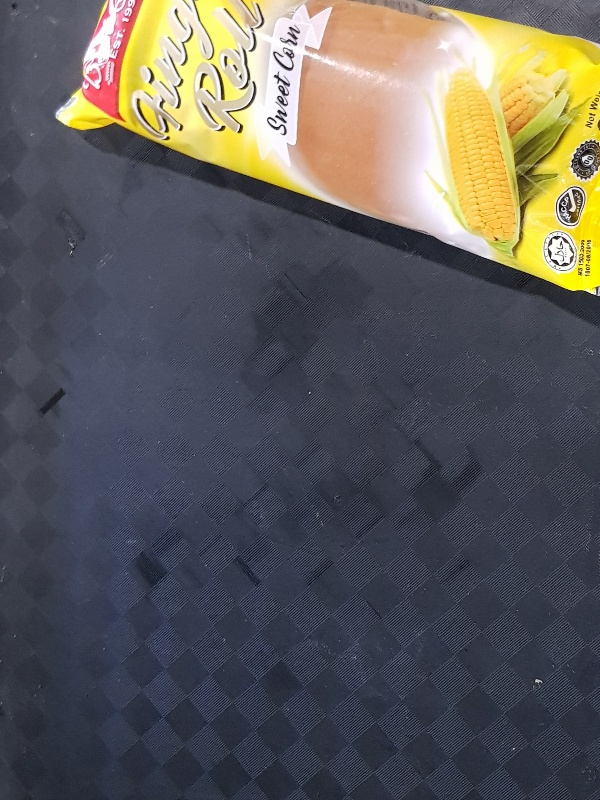Tinges Roll Sweet Corn: (54, 1, 599, 300)
